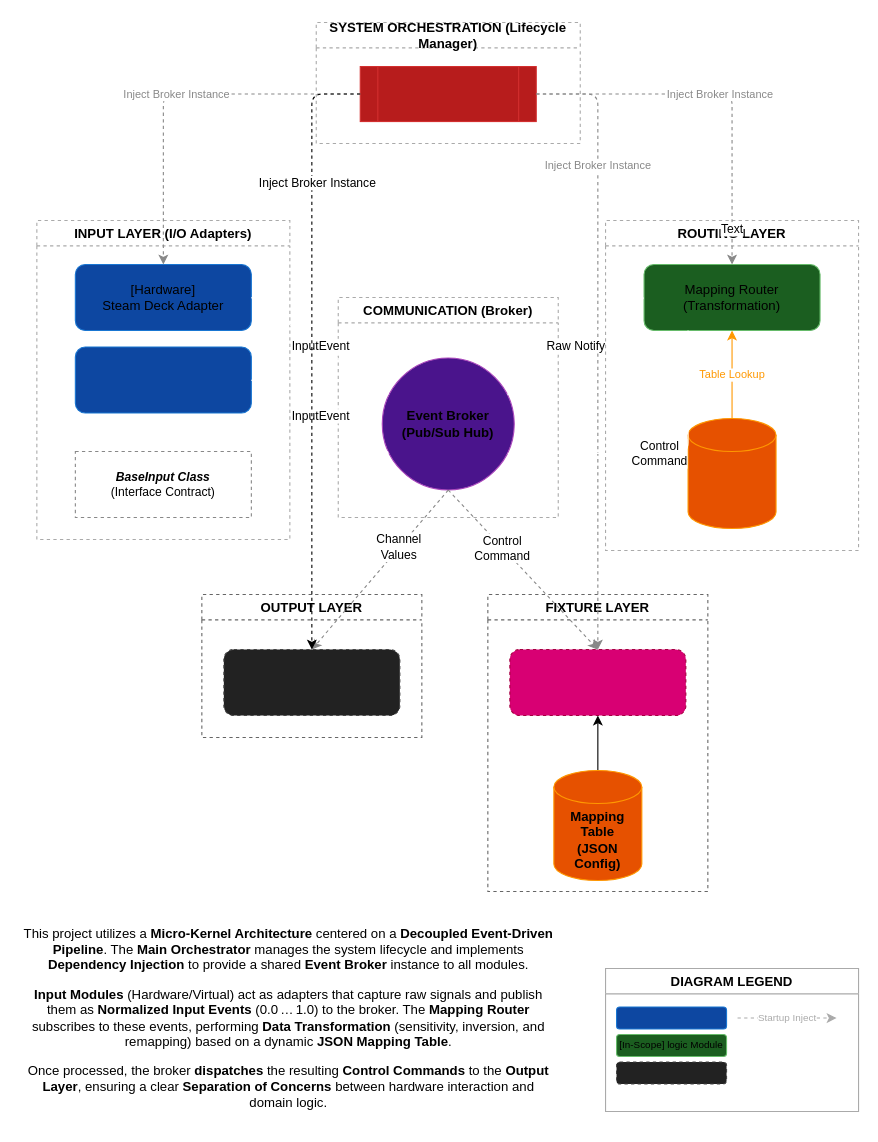
Image size: 878x1142. Some labels were removed from this diagram. The centre of each missing label's shape, as x and y in pixels:
[In-Scope] Input Module: [671,1017]
[Virtual] GUI Input Module: [162,379]
Fixture Mapper (e.g. ArtNet Mock): [597,682]
Main Orchestrator (Service Manager): [447,93]
Output Adapter (e.g. ArtNet Mock): [311,682]
Routing Table (JSON Config): [731,473]
